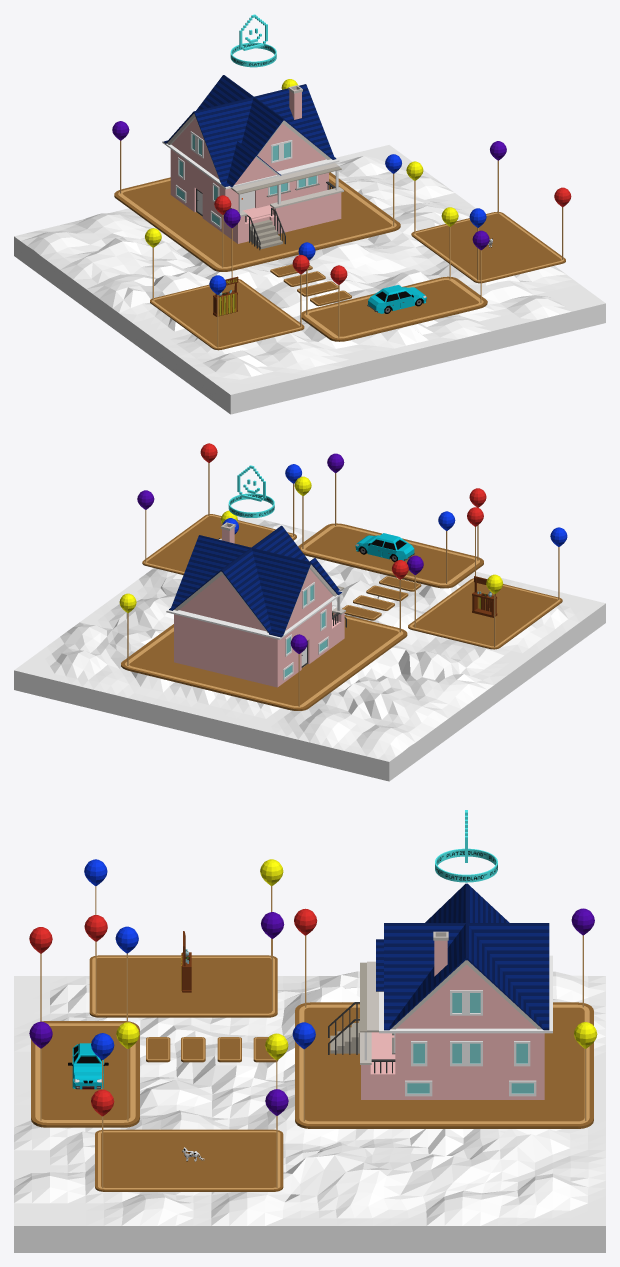
3 views of the same model, one above another, from view 1: azimuth 30°, elevation 25°; view 2: azimuth 150°, elevation 25°; view 3: azimuth 270°, elevation 25° (orthographic). The views are drawn at different scales.
Parts seen in each view (by area): view 1: Cube.013, Cube.313, VEHICLES_CAR, TYPE_PREMIUM, OBJRANDOM_LEMONADE_STAND; view 2: Cube.013, Cube.313, VEHICLES_CAR, TYPE_PREMIUM, OBJRANDOM_LEMONADE_STAND; view 3: Cube.013, Cube.313, VEHICLES_CAR, TYPE_PREMIUM.
Boxes of the visible parts, x1,y1,x2,y2 form: Cube.013: [14, 79, 605, 414]; Cube.313: [162, 75, 343, 250]; VEHICLES_CAR: [367, 285, 426, 313]; TYPE_PREMIUM: [230, 14, 276, 67]; OBJRANDOM_LEMONADE_STAND: [213, 276, 238, 316]; Cube.013: [14, 443, 605, 781]; Cube.313: [166, 522, 346, 687]; VEHICLES_CAR: [355, 533, 414, 562]; TYPE_PREMIUM: [228, 465, 274, 517]; OBJRANDOM_LEMONADE_STAND: [472, 576, 497, 617]; Cube.013: [14, 859, 605, 1252]; Cube.313: [328, 883, 552, 1099]; VEHICLES_CAR: [68, 1043, 108, 1089]; TYPE_PREMIUM: [435, 810, 497, 882].
Bounding box in the file's own units: 4000 × 2393 × 4000.
Materials: 42 (3 with a texture image).
